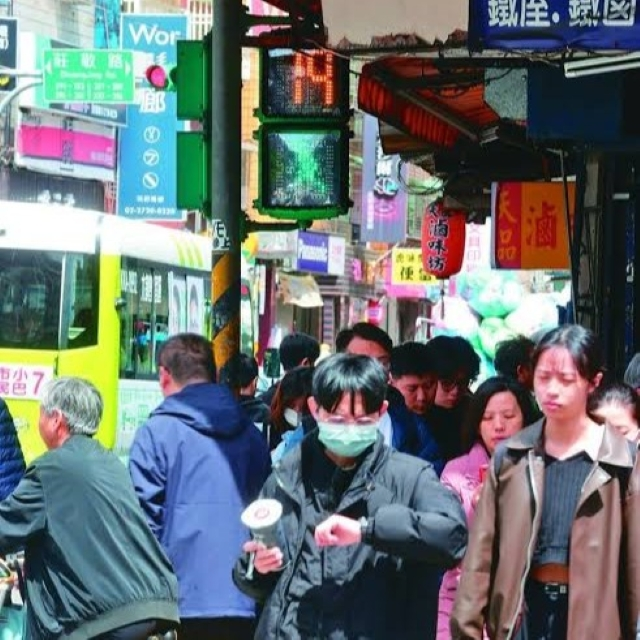green_light: (259, 42, 350, 215)
